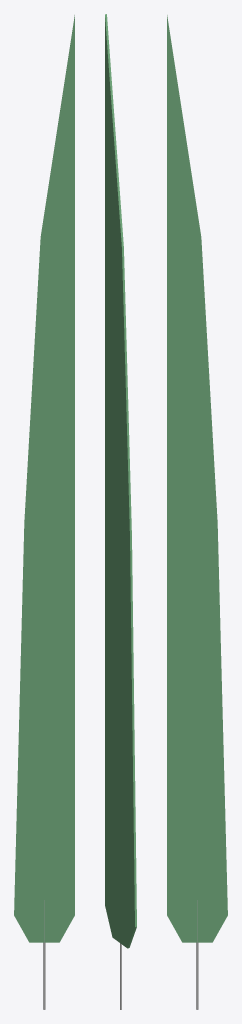
The model's file is brade.obj.
The picture shows the model from 3 angles, left to right: view 1: azimuth 90°, elevation 25°; view 2: azimuth 210°, elevation 25°; view 3: azimuth 270°, elevation 25°; orthographic projection.
Visible parts, largest first — view 1: 円柱; view 2: 円柱; view 3: 円柱.
Boxes of the visible parts, bbox=[...] form: 円柱: bbox=[14, 15, 74, 1009]; 円柱: bbox=[105, 14, 136, 1009]; 円柱: bbox=[167, 15, 227, 1009].
Size of the model in its own units: 0.000274 by 0.1274 by 0.00706.
